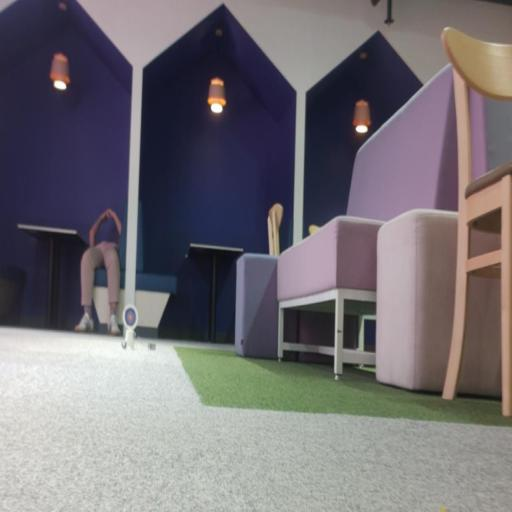target: (123, 304, 138, 331)
